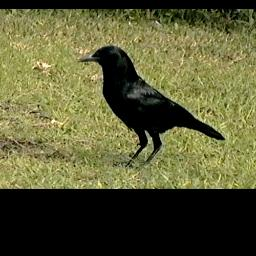Crow: (77, 45, 226, 170)
